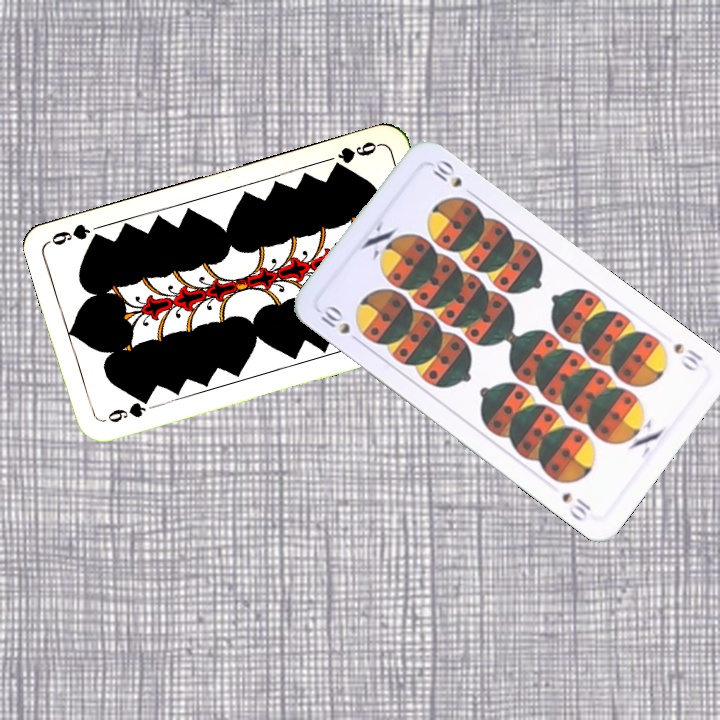G9: (328, 137, 382, 173), (99, 393, 153, 425)
S10: (316, 302, 353, 337), (669, 339, 706, 374)
